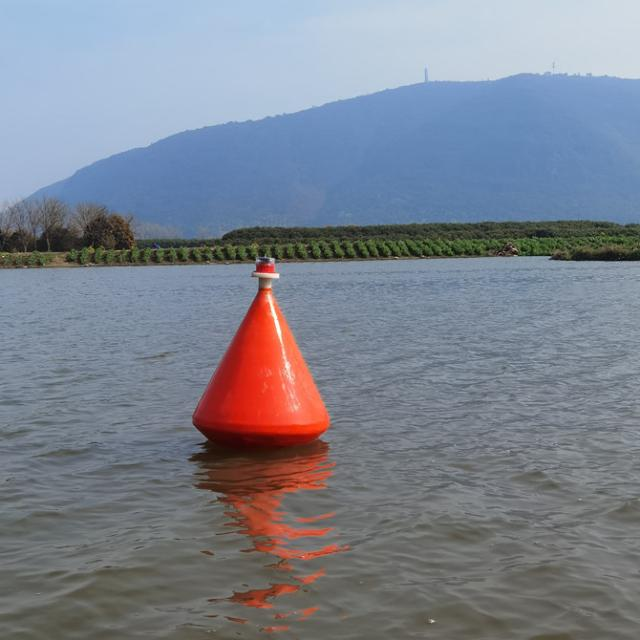buoy: (190, 256, 332, 448)
